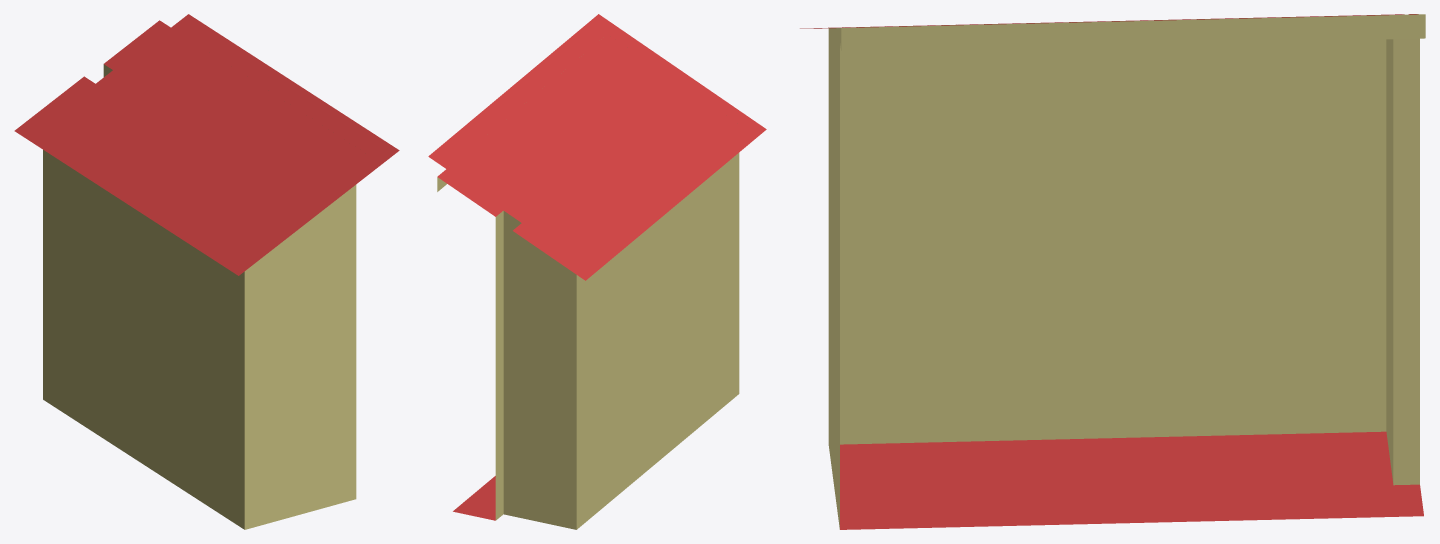
The picture shows the model from 3 angles, left to right: view 1: azimuth 30°, elevation 25°; view 2: azimuth 150°, elevation 25°; view 3: azimuth 270°, elevation 25°; orthographic projection. The views are drawn at different scales.
Bounding box in the file's own units: 5.14 × 9.94 × 9.16.
